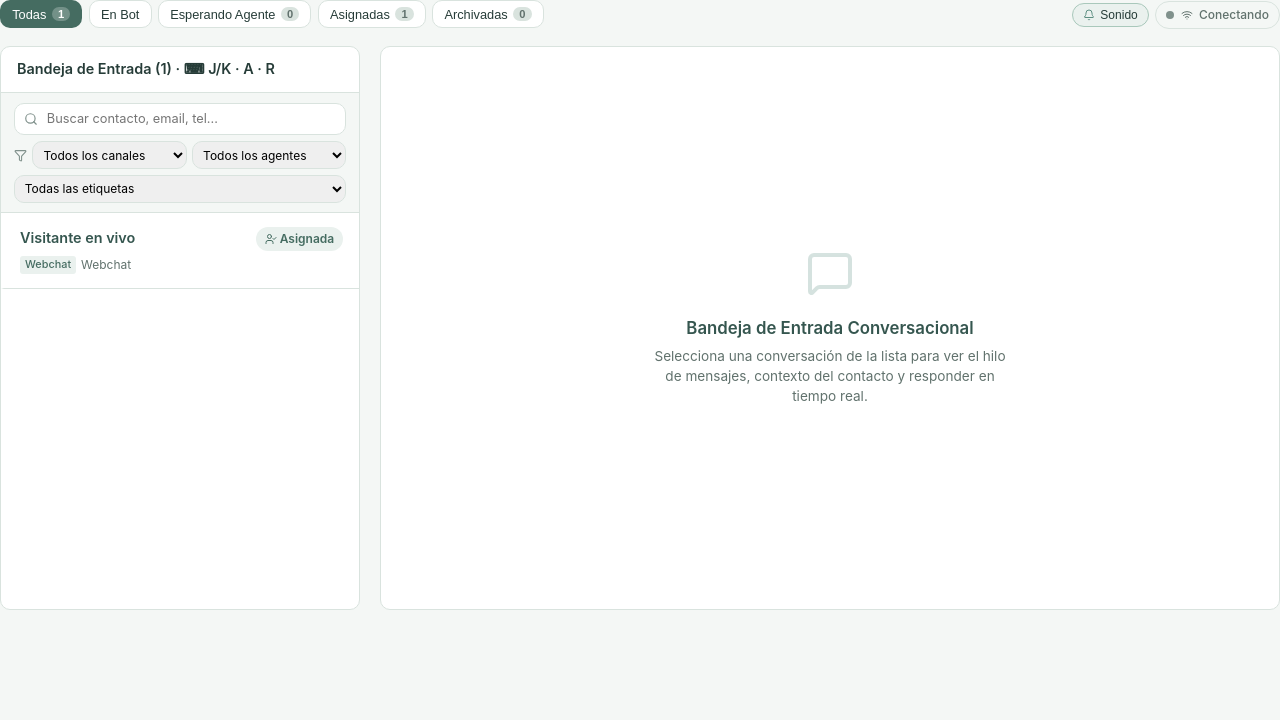
Scenario: ConversationsView realtime message delivery › adds an incoming visitor message to the open agent conversation immediately
Click the element with test id "conversation-item" at (180, 251), box [1, 213, 359, 288]
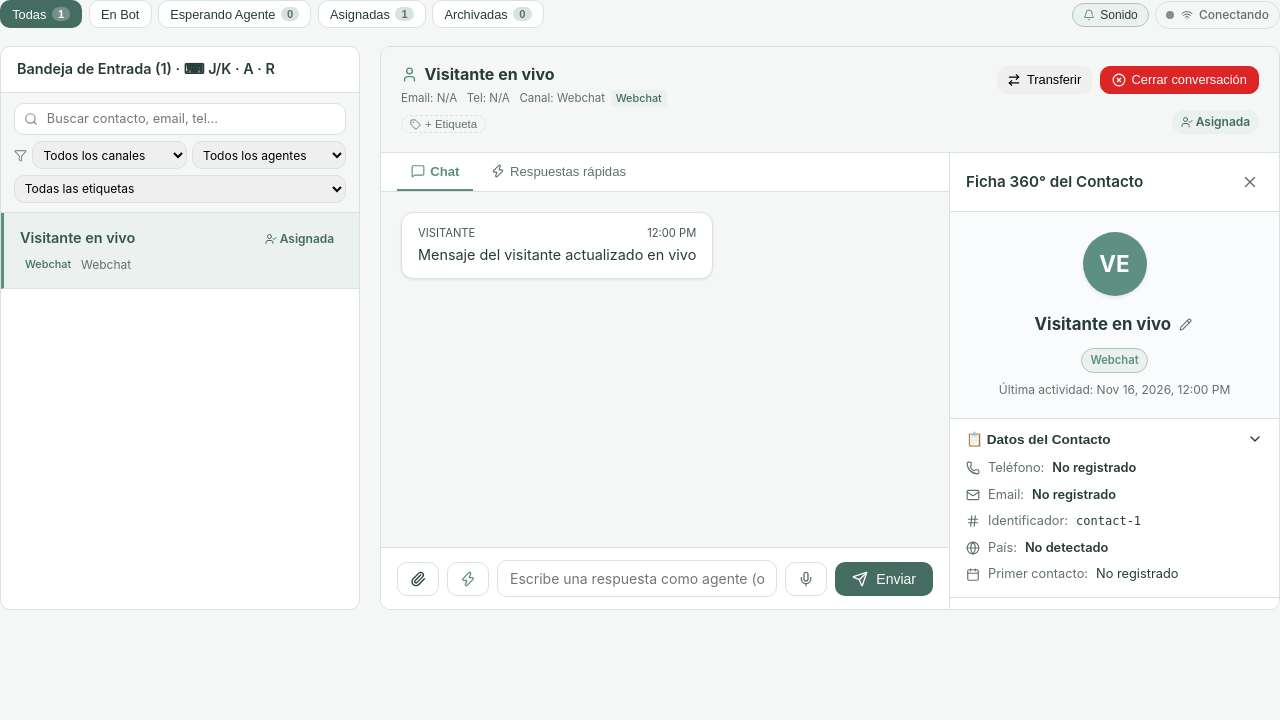
expect the text "Mensaje del visitante actualizado en vivo" is shown: met, box [418, 245, 696, 266]
